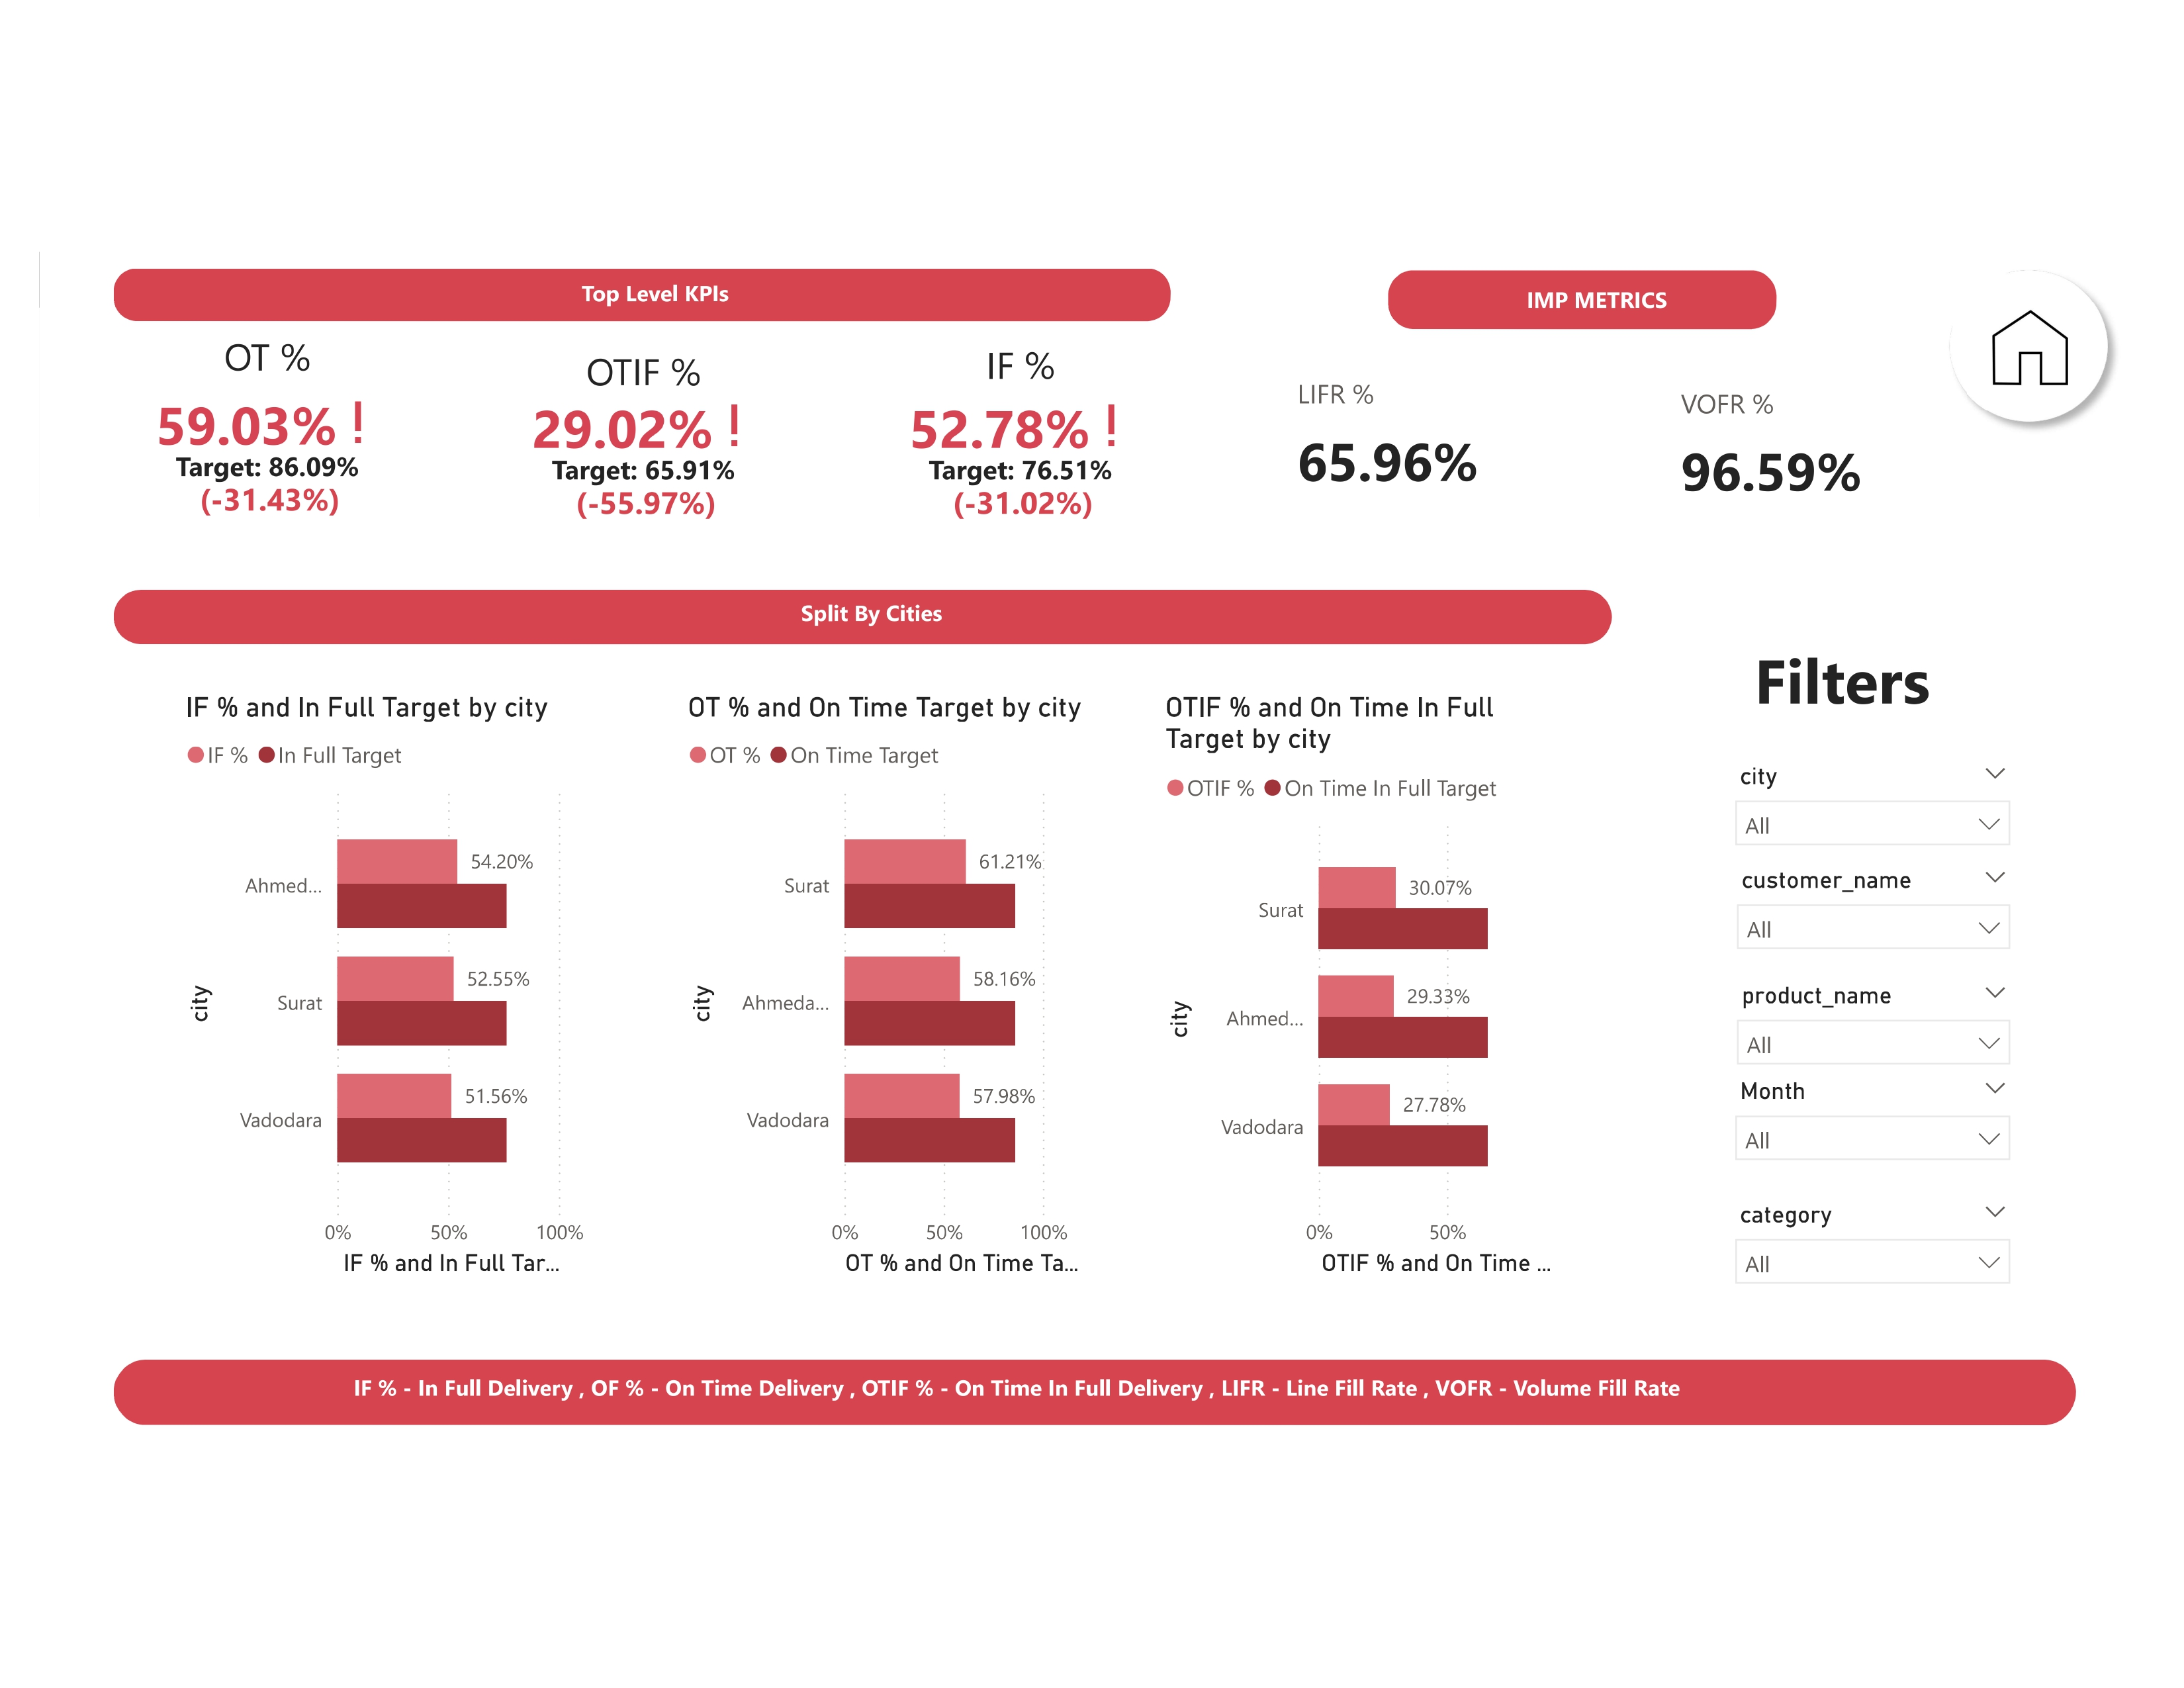

Layout of this report page (visuals, bound fields, positions):
{"tool":"powerbi","page":{"name":"Split By Cities","canvas":[1280,720],"ordinal":1},"visuals":[{"type":"shape","box":[45,10,641.7,31.7],"z":0},{"type":"shape","box":[990,221.7,246.7,428.3],"z":1000},{"type":"shape","box":[45,245,916.7,415],"z":2000},{"type":"shape","box":[44.4,44.4,186.7,135],"z":3000},{"type":"kpi","title":"OT %","fields":{"Indicator":["Required Measures.OT %"],"TrendLine":["dim_date.date.Variation.Date Hierarchy.Year"],"Goal":["Required Measures.On Time Target"]},"box":[55,48.3,166.7,125],"z":4000},{"type":"shape","box":[280,50.1,183,134.4],"z":5000},{"type":"kpi","title":"OTIF %","fields":{"TrendLine":["dim_date.date.Variation.Date Hierarchy.Year"],"Indicator":["Required Measures.OTIF %"],"Goal":["Required Measures.On Time In Full Target"]},"box":[286.7,56.7,160,111.7],"z":6000},{"type":"shape","box":[505,49.2,181.4,134.4],"z":7000},{"type":"kpi","title":"IF % ","fields":{"TrendLine":["dim_date.date.Variation.Date Hierarchy.Year"],"Indicator":["Required Measures.IF %"],"Goal":["Required Measures.In Full Target"]},"box":[516.7,53.3,158.3,118.3],"z":8000},{"type":"shape","box":[726.7,50.6,189.4,134.4],"z":9000},{"type":"shape","box":[961.8,50.3,186.2,137.6],"z":10000},{"type":"cardVisual","fields":{"Data":["Required Measures.LIFR %"]},"box":[746.7,53.3,151.7,115],"z":11000},{"type":"cardVisual","fields":{"Data":["Required Measures.VOFR %"]},"box":[980,61.7,151.7,110],"z":12000},{"type":"clusteredBarChart","fields":{"Category":["dim_customers.city"],"Y":["Required Measures.IF %","Required Measures.In Full Target"]},"box":[83.9,266.1,253.3,360],"z":13000},{"type":"clusteredBarChart","fields":{"Category":["dim_customers.city"],"Y":["Required Measures.OT %","Required Measures.On Time Target"]},"box":[388.9,266.1,263.3,360],"z":14000},{"type":"clusteredBarChart","fields":{"Category":["dim_customers.city"],"Y":["Required Measures.OTIF %","Required Measures.On Time In Full Target"]},"box":[678.9,266.1,258.3,360],"z":15000},{"type":"slicer","fields":{"Values":["dim_customers.city"]},"box":[1019.8,304.9,187.1,64.3],"z":16000},{"type":"slicer","fields":{"Values":["dim_customers.customer_name"]},"box":[1020.5,368.2,186.2,69.6],"z":17000},{"type":"slicer","fields":{"Values":["dim_products.product_name"]},"box":[1020.5,437.8,186.2,58.3],"z":18000},{"type":"slicer","fields":{"Values":["dim_date.date.Variation.Date Hierarchy.Month"]},"box":[1019.8,495.7,187.1,75.6],"z":19000},{"type":"slicer","fields":{"Values":["dim_products.category"]},"box":[1019.8,571.3,187.1,66.1],"z":20000},{"type":"textbox","box":[1021.1,229.3,147.4,75.6],"z":21000},{"type":"textbox","box":[293.3,10.6,161.2,28.2],"z":22000},{"type":"shape","box":[819,11,236,36],"z":23000},{"type":"textbox","box":[865,15,162,28],"z":24000},{"type":"shape","box":[45,205,910,33.3],"z":25000},{"type":"textbox","box":[424.7,205.3,161.5,33.1],"z":26000},{"type":"shape","box":[45,671.7,1191.7,40],"z":27000},{"type":"textbox","box":[128.3,675,935,33.3],"z":28000},{"type":"shape","box":[1151.3,1.6,113.3,110.1],"z":29000},{"type":"image","box":[1165.8,13,85.8,89.1],"z":30000}]}

Visuals, with their boxes on the page's 1280x720 design canvas (x1, y1, x2, y2). These are canvas units, not pixel positions in the 2184x1688 screenshot, which may show the page scaled, cropped or inside an application window:
shape: pyautogui.locateOnScreen(45, 10, 687, 42)
shape: pyautogui.locateOnScreen(990, 222, 1237, 650)
shape: pyautogui.locateOnScreen(45, 245, 962, 660)
shape: pyautogui.locateOnScreen(44, 44, 231, 179)
"OT %" kpi: pyautogui.locateOnScreen(55, 48, 222, 173)
shape: pyautogui.locateOnScreen(280, 50, 463, 184)
"OTIF %" kpi: pyautogui.locateOnScreen(287, 57, 447, 168)
shape: pyautogui.locateOnScreen(505, 49, 686, 184)
"IF % " kpi: pyautogui.locateOnScreen(517, 53, 675, 172)
shape: pyautogui.locateOnScreen(727, 51, 916, 185)
shape: pyautogui.locateOnScreen(962, 50, 1148, 188)
cardVisual - Required Measures.LIFR %: pyautogui.locateOnScreen(747, 53, 898, 168)
cardVisual - Required Measures.VOFR %: pyautogui.locateOnScreen(980, 62, 1132, 172)
clusteredBarChart - dim_customers.city x Required Measures.IF %: pyautogui.locateOnScreen(84, 266, 337, 626)
clusteredBarChart - dim_customers.city x Required Measures.OT %: pyautogui.locateOnScreen(389, 266, 652, 626)
clusteredBarChart - dim_customers.city x Required Measures.OTIF %: pyautogui.locateOnScreen(679, 266, 937, 626)
slicer - dim_customers.city: pyautogui.locateOnScreen(1020, 305, 1207, 369)
slicer - dim_customers.customer_name: pyautogui.locateOnScreen(1020, 368, 1207, 438)
slicer - dim_products.product_name: pyautogui.locateOnScreen(1020, 438, 1207, 496)
slicer - dim_date.date.Variation.Date Hierarchy.Month: pyautogui.locateOnScreen(1020, 496, 1207, 571)
slicer - dim_products.category: pyautogui.locateOnScreen(1020, 571, 1207, 637)
textbox: pyautogui.locateOnScreen(1021, 229, 1168, 305)
textbox: pyautogui.locateOnScreen(293, 11, 454, 39)
shape: pyautogui.locateOnScreen(819, 11, 1055, 47)
textbox: pyautogui.locateOnScreen(865, 15, 1027, 43)
shape: pyautogui.locateOnScreen(45, 205, 955, 238)
textbox: pyautogui.locateOnScreen(425, 205, 586, 238)
shape: pyautogui.locateOnScreen(45, 672, 1237, 712)
textbox: pyautogui.locateOnScreen(128, 675, 1063, 708)
shape: pyautogui.locateOnScreen(1151, 2, 1265, 112)
image: pyautogui.locateOnScreen(1166, 13, 1252, 102)
